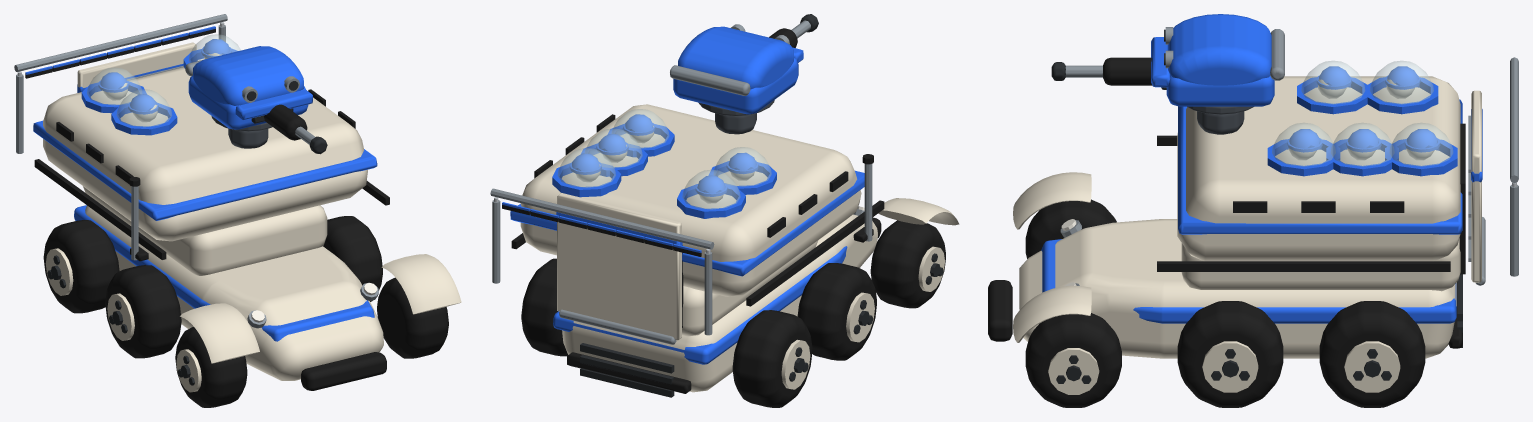
File: apc.glb
The picture shows the model from 3 angles, left to right: view 1: azimuth 30°, elevation 25°; view 2: azimuth 150°, elevation 25°; view 3: azimuth 270°, elevation 25°; orthographic projection. The views are drawn at different scales.
Parts seen in each view (by area): view 1: hull__M_CreamPlastic, hull__M_Team, turret__M_Team, wheel_r1__M_Licorice, hull__M_Licorice, wheel_r2__M_Licorice, hull__M_FrostGlass, wheel_l0__M_Licorice, steer_r0__M_CreamPlastic, steer_l0__M_CreamPlastic, wheel_r0__M_Licorice, wheel_l1__M_Licorice (+13 smaller); view 2: hull__M_CreamPlastic, apc_ramp__M_CreamPlastic, hull__M_Team, hull__M_FrostGlass, turret__M_Team, wheel_r2__M_Licorice, wheel_r1__M_Licorice, wheel_r0__M_Licorice, hull__M_Licorice, wheel_l2__M_Licorice, hull__M_Dark, apc_screen_2__M_SpringSteel (+15 smaller); view 3: hull__M_CreamPlastic, hull__M_Team, hull__M_FrostGlass, turret__M_Team, hull__M_Licorice, wheel_l2__M_Licorice, wheel_l1__M_Licorice, wheel_l0__M_Licorice, wheel_r0__M_Licorice, steer_r0__M_CreamPlastic, steer_l0__M_CreamPlastic, apc_ramp__M_CreamPlastic (+17 smaller).
Boxes of the visible parts, x1,y1,x2,y2 form: hull__M_CreamPlastic: (43,67,383,380); hull__M_Team: (33,48,377,341); turret__M_Team: (188,46,312,129); wheel_r1__M_Licorice: (105,265,181,358); hull__M_Licorice: (34,89,389,390); wheel_r2__M_Licorice: (43,220,119,313); hull__M_FrostGlass: (87,34,240,126); wheel_l0__M_Licorice: (377,277,448,358); steer_r0__M_CreamPlastic: (180,303,259,363); steer_l0__M_CreamPlastic: (381,254,461,314); wheel_r0__M_Licorice: (175,327,247,407); wheel_l1__M_Licorice: (323,216,382,301); hull__M_CreamPlastic: (520,104,877,392); apc_ramp__M_CreamPlastic: (557,193,681,340); hull__M_Team: (510,124,864,364); hull__M_FrostGlass: (558,109,771,209); turret__M_Team: (673,26,803,114); wheel_r2__M_Licorice: (732,310,812,407); wheel_r1__M_Licorice: (797,263,876,360); wheel_r0__M_Licorice: (870,220,945,308); hull__M_Licorice: (511,114,884,393); wheel_l2__M_Licorice: (521,258,567,356); hull__M_Dark: (580,343,674,397); apc_screen_2__M_SpringSteel: (490,188,714,249); hull__M_CreamPlastic: (1019,76,1460,358); hull__M_Team: (1041,77,1462,323); hull__M_FrostGlass: (1272,61,1452,166); turret__M_Team: (1151,14,1274,106); hull__M_Licorice: (988,123,1465,348); wheel_l2__M_Licorice: (1319,301,1425,407); wheel_l1__M_Licorice: (1177,301,1283,407); wheel_l0__M_Licorice: (1025,313,1121,407); wheel_r0__M_Licorice: (1025,199,1116,258); steer_r0__M_CreamPlastic: (1013,172,1091,229); steer_l0__M_CreamPlastic: (1013,285,1091,342); apc_ramp__M_CreamPlastic: (1471,90,1481,282).
Size of the model in its own units: 0.696 by 0.7093 by 1.08.
